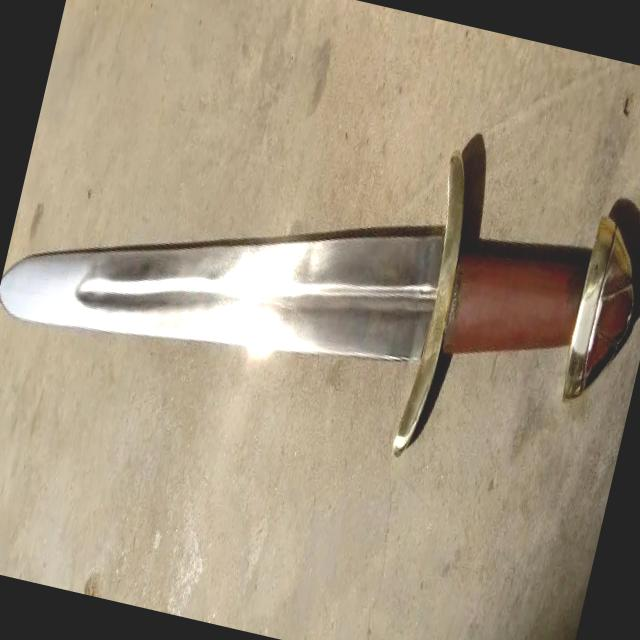short sword: (0, 21, 640, 545)
